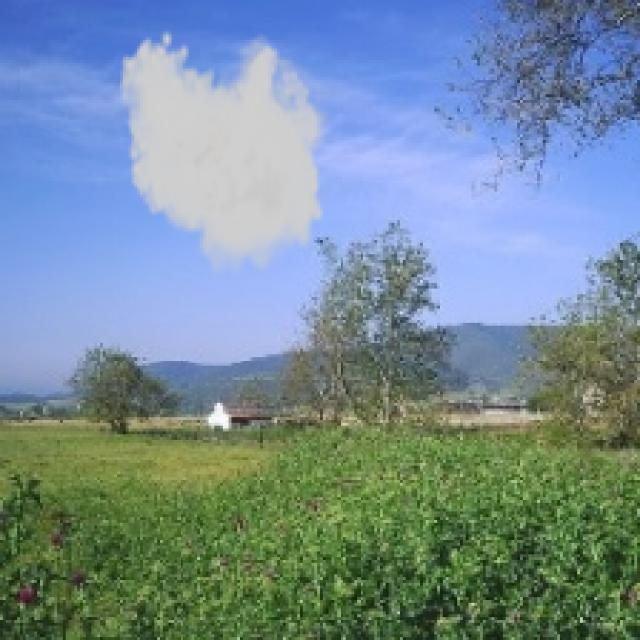smoke: (117, 28, 337, 283)
